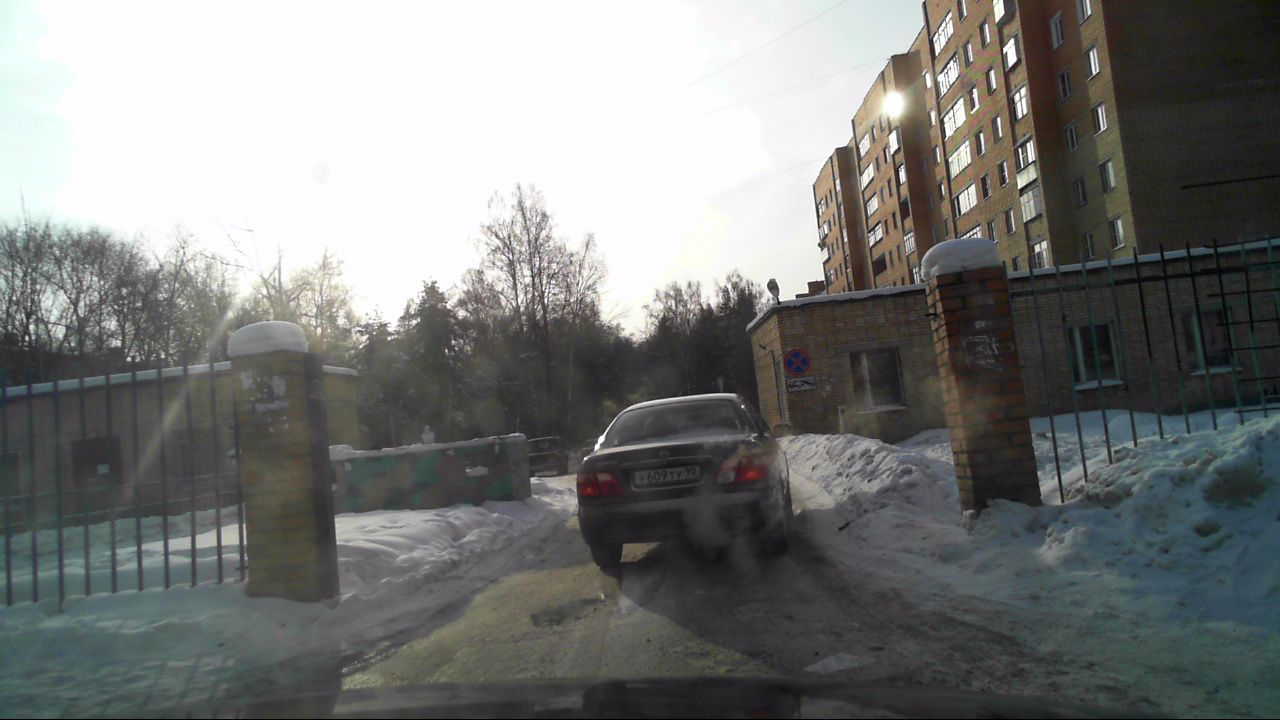No Parking: (784, 350, 809, 376)
